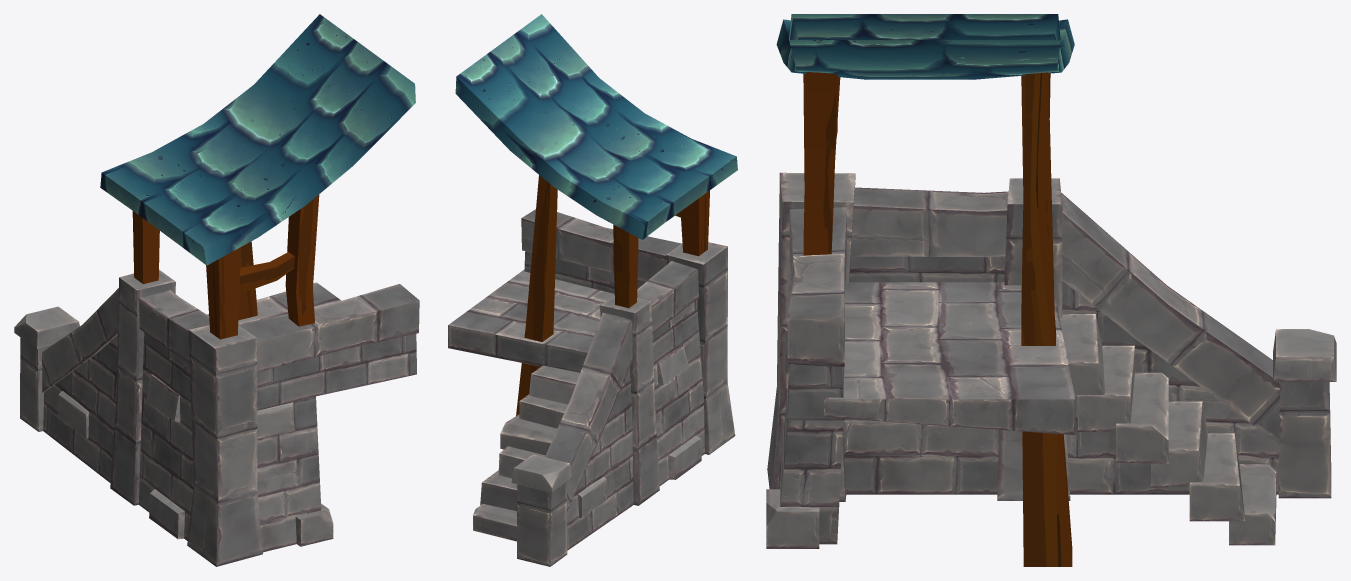
File: SM_BLD_stairs_v02_02.fbx
The picture shows the model from 3 angles, left to right: view 1: azimuth 30°, elevation 25°; view 2: azimuth 150°, elevation 25°; view 3: azimuth 270°, elevation 25°; orthographic projection. The views are drawn at different scales.
Parts seen in each view (by area): view 1: SM_BLD_stairs_v02_02; view 2: SM_BLD_stairs_v02_02; view 3: SM_BLD_stairs_v02_02.
Boxes of the visible parts, x1,y1,x2,y2 form: SM_BLD_stairs_v02_02: (14,14,419,566); SM_BLD_stairs_v02_02: (448,14,737,566); SM_BLD_stairs_v02_02: (766,14,1336,566).
Size of the model in its own units: 315 by 587 by 508.
